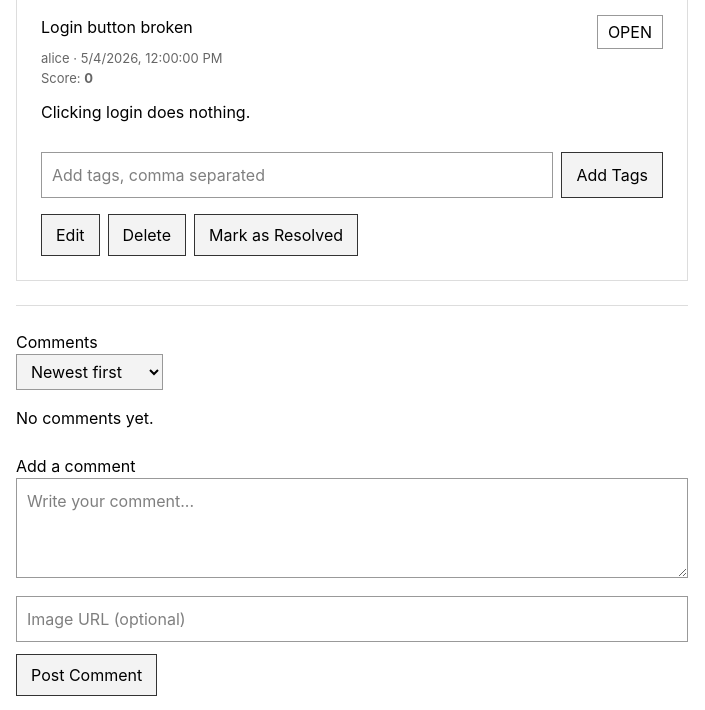
Test case: comments › post comment on OPEN bug → bug status flips to IN_PROGRESS
(page scrolled)
In the text box named "Comment text": (352, 528) [16, 478, 688, 578], type "Triggering status change"
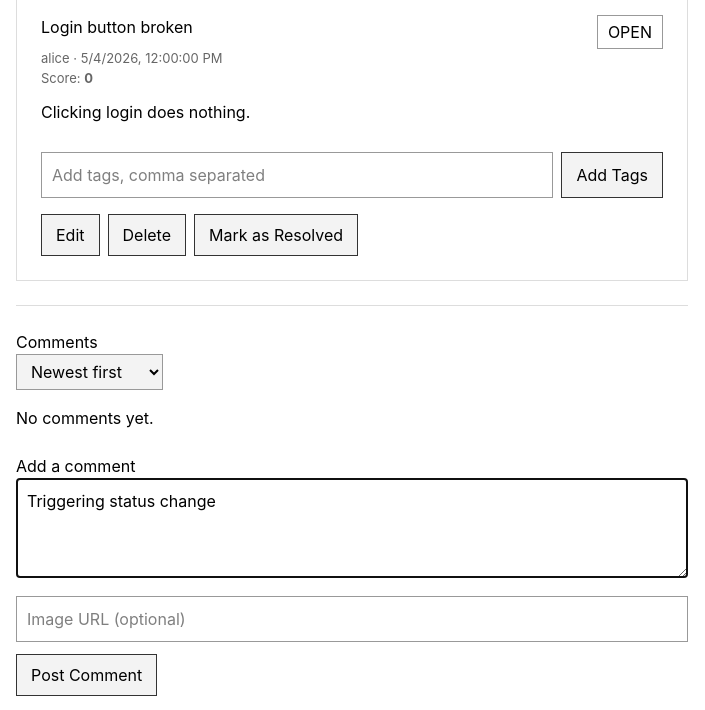
Click the button "Post Comment": (87, 675) [16, 654, 157, 696]
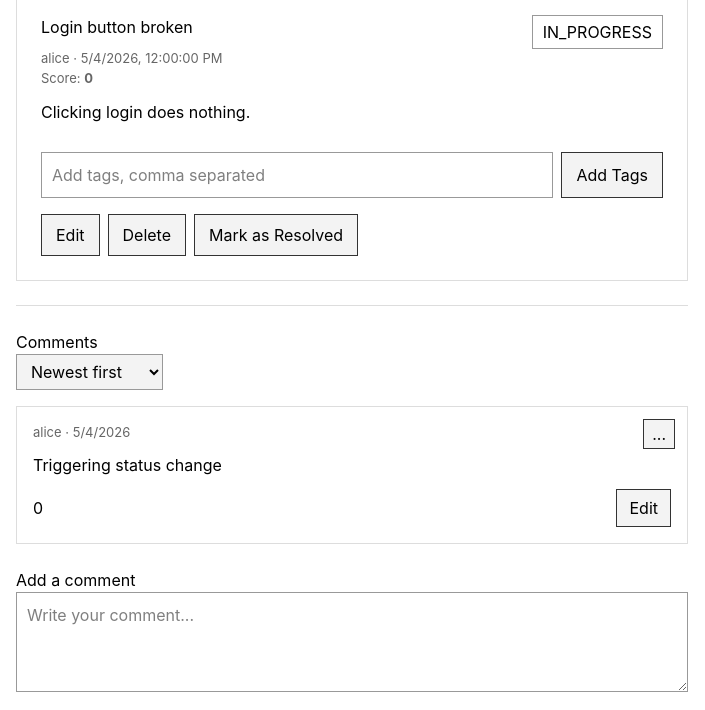
Expected: the text "IN_PROGRESS" is shown, [532, 15, 663, 49]
